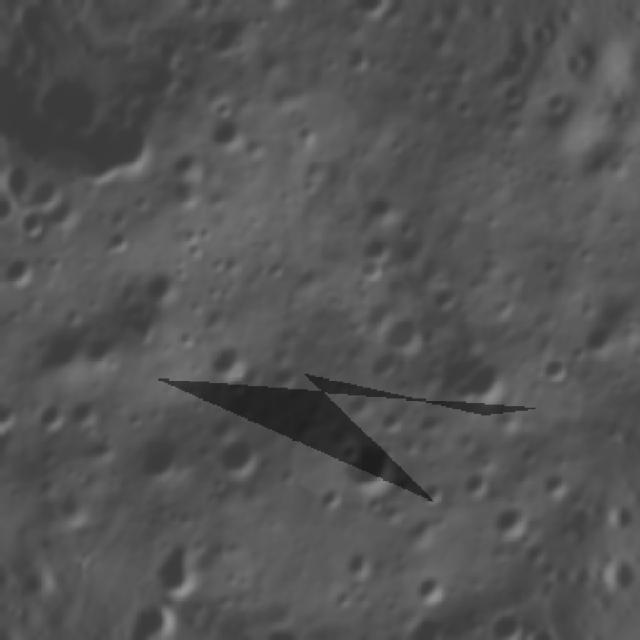crater: (131, 528, 218, 606), (328, 422, 409, 503), (444, 343, 519, 420), (191, 0, 260, 71), (205, 424, 270, 487), (128, 424, 190, 490), (373, 301, 433, 362), (344, 287, 402, 345), (576, 308, 632, 368), (132, 260, 188, 318), (40, 184, 94, 241), (351, 184, 407, 236), (202, 328, 252, 386), (485, 498, 538, 552), (202, 108, 255, 158), (0, 245, 46, 301), (333, 542, 384, 592), (62, 385, 110, 438), (9, 201, 56, 254), (331, 34, 378, 83), (395, 509, 443, 556), (24, 166, 68, 217), (534, 464, 581, 511), (81, 425, 128, 472), (350, 226, 396, 271), (362, 342, 407, 388), (48, 484, 92, 531), (410, 568, 455, 612), (478, 603, 531, 640), (454, 464, 498, 508), (94, 220, 135, 266), (403, 603, 452, 640), (412, 472, 454, 514), (27, 394, 68, 437), (539, 349, 579, 393), (492, 73, 532, 113), (352, 252, 393, 290), (537, 81, 574, 119), (329, 436, 363, 472), (326, 582, 357, 615), (243, 0, 299, 17), (0, 419, 12, 473), (282, 0, 328, 5)
